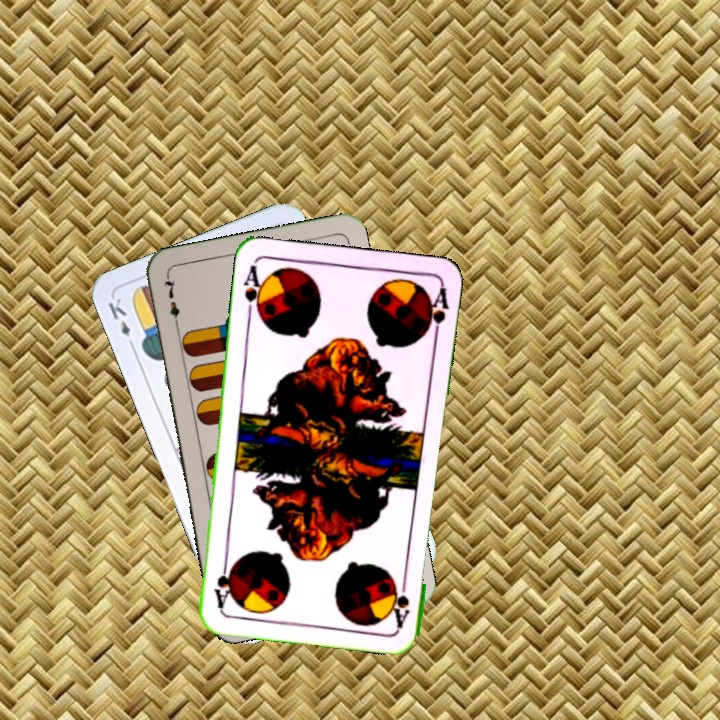E7: (159, 273, 182, 332)
EK: (103, 293, 138, 352)
SA: (239, 261, 267, 320), (389, 570, 413, 629)
